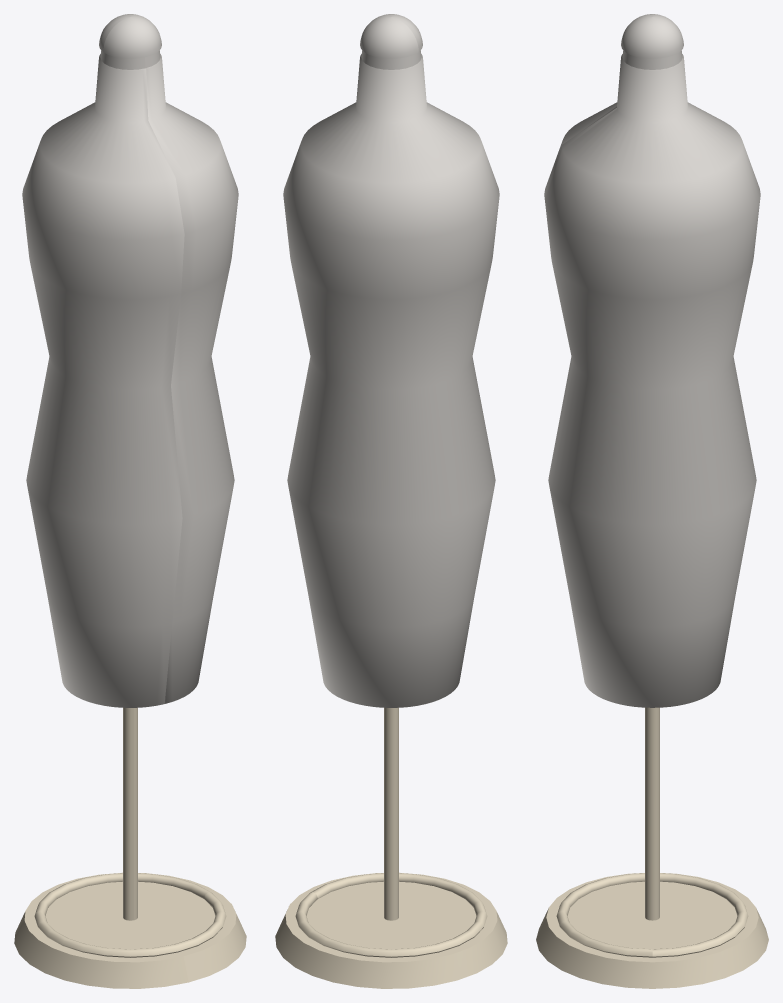
File: mdl-mannequin.7d3d0875.glb
The picture shows the model from 3 angles, left to right: view 1: azimuth 30°, elevation 25°; view 2: azimuth 150°, elevation 25°; view 3: azimuth 270°, elevation 25°; orthographic projection.
Visible parts, largest first — view 1: mannequin; view 2: mannequin; view 3: mannequin.
Boxes of the visible parts, bbox=[...] form: mannequin: bbox=[14, 14, 246, 988]; mannequin: bbox=[275, 14, 507, 988]; mannequin: bbox=[536, 14, 768, 988].
Size of the model in its own units: 0.3399 by 1.49 by 0.3399.
